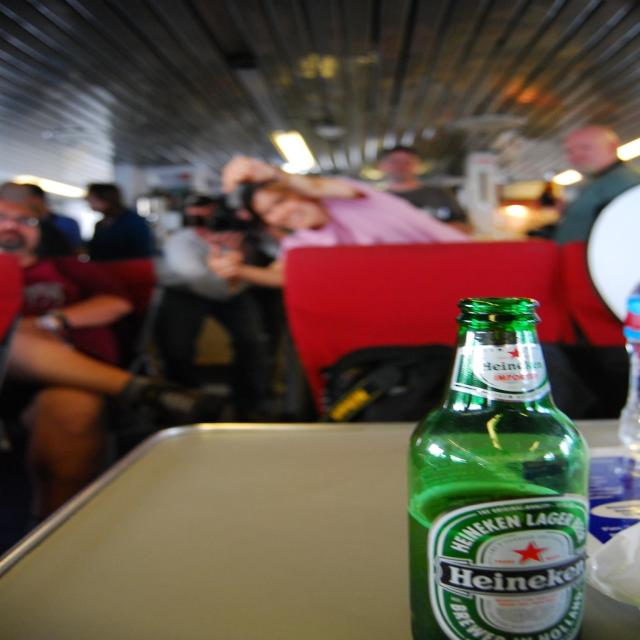heineken: (429, 496, 587, 640)
